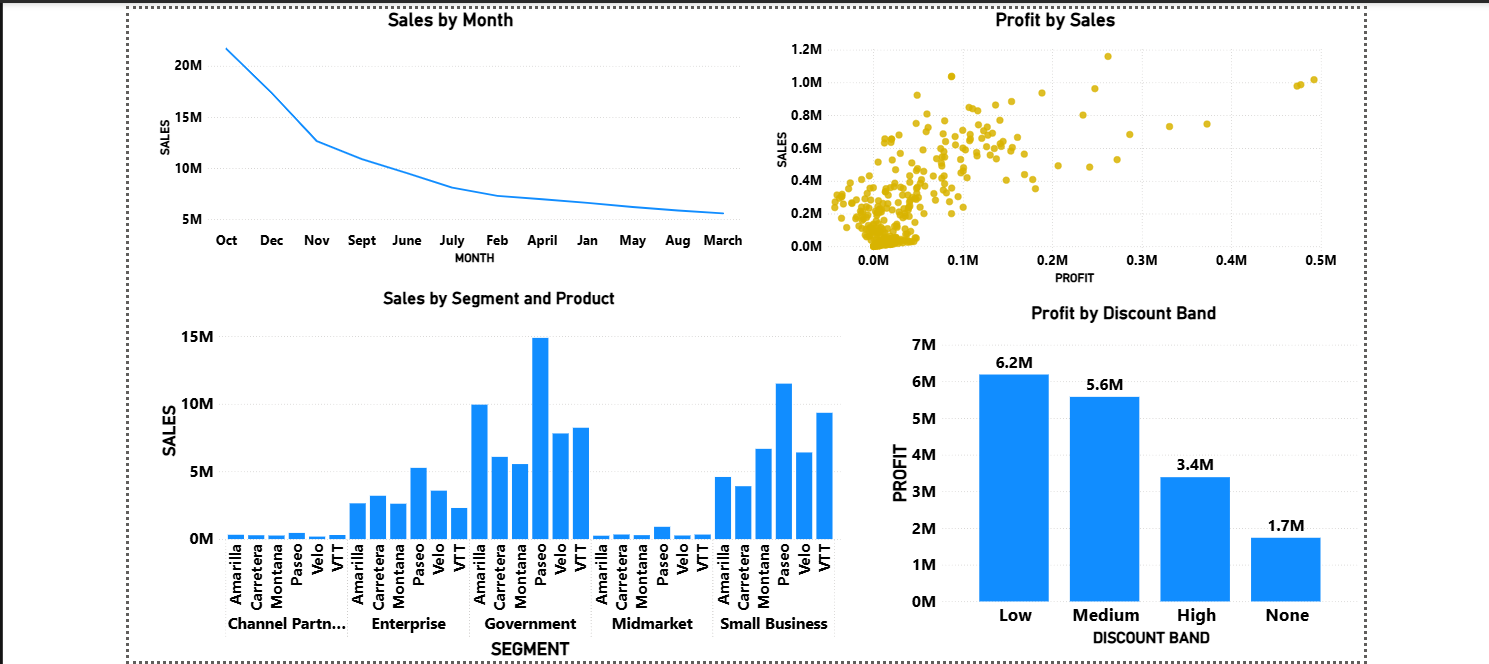

Layout of this report page (visuals, bound fields, positions):
{"tool":"powerbi","page":{"name":"Page 2","canvas":[2000,1056],"ordinal":1},"visuals":[{"type":"clusteredColumnChart","title":"Sales by Segment and Product","fields":{"Y":["Sum(Table2. Sales)"],"Category":["Table2.Segment","Table2.Product"]},"box":[41.3,451.8,1116.2,605.3],"z":0},{"type":"lineChart","title":" Sales by Month","fields":{"Category":["Table2.Month Name"],"Y":["Sum(Table2. Sales)"]},"box":[41.3,0,959.7,419.3],"z":1000},{"type":"scatterChart","title":"Profit by  Sales","fields":{"Y":["Table2. Sales"],"X":["Sum(Table2.Profit)"]},"box":[1039.4,0,921.3,451.8],"z":2000},{"type":"clusteredColumnChart","title":" Profit by Discount Band","fields":{"Category":["Table2.Discount Band"],"Y":["Sum(Table2.Profit)"]},"box":[1225.4,475.4,773.6,561],"z":3000}]}

Visuals, with their boxes on the page's 2000x1056 design canvas (x1, y1, x2, y2). These are canvas units, not pixel positions in the 1489x664 screenshot, which may show the page scaled, cropped or inside an application window:
"Sales by Segment and Product" clusteredColumnChart: bbox(41, 452, 1158, 1057)
" Sales by Month" lineChart: bbox(41, 0, 1001, 419)
"Profit by  Sales" scatterChart: bbox(1039, 0, 1961, 452)
" Profit by Discount Band" clusteredColumnChart: bbox(1225, 475, 1999, 1036)
